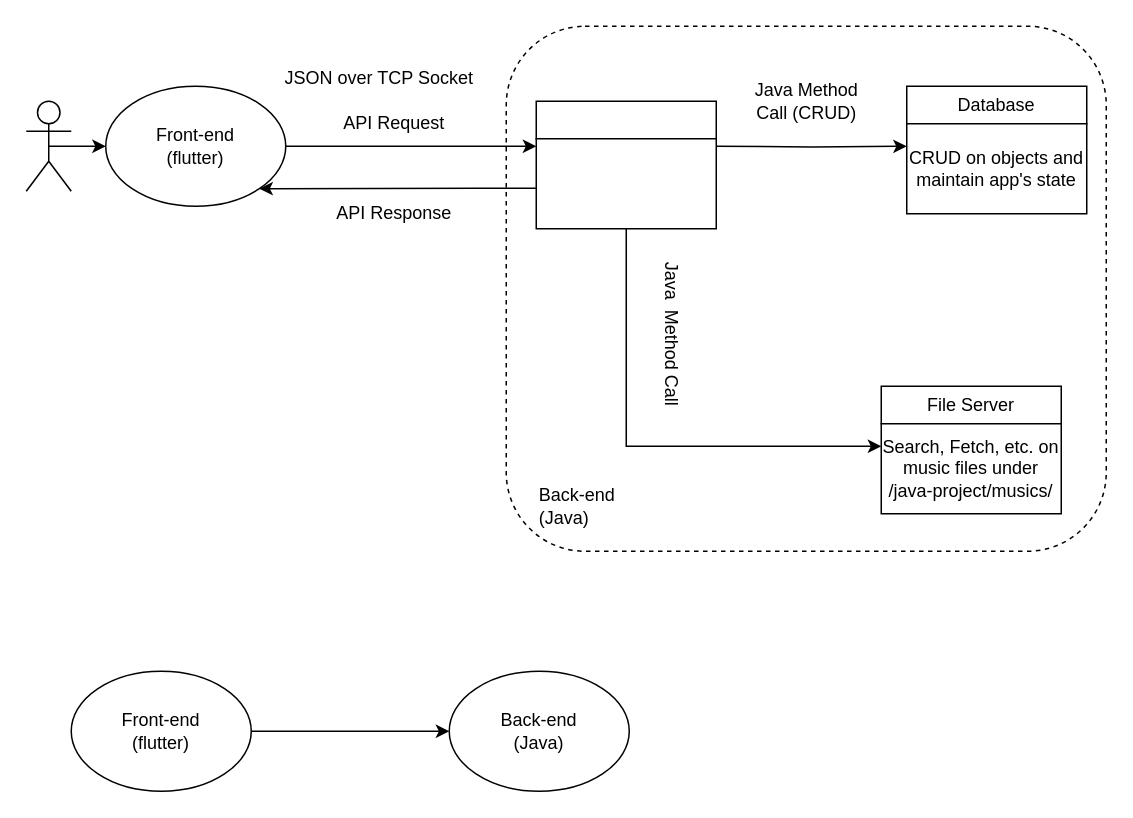
Some shapes in this 1133 by 818 pixel diagram are drawn without their labels. The centre of each missing label's shape, as x and y in pixels:
API Server: point 625,119
Client: point 48,145
Parses JSON, Routes Request to DB or File Server: point 625,183
